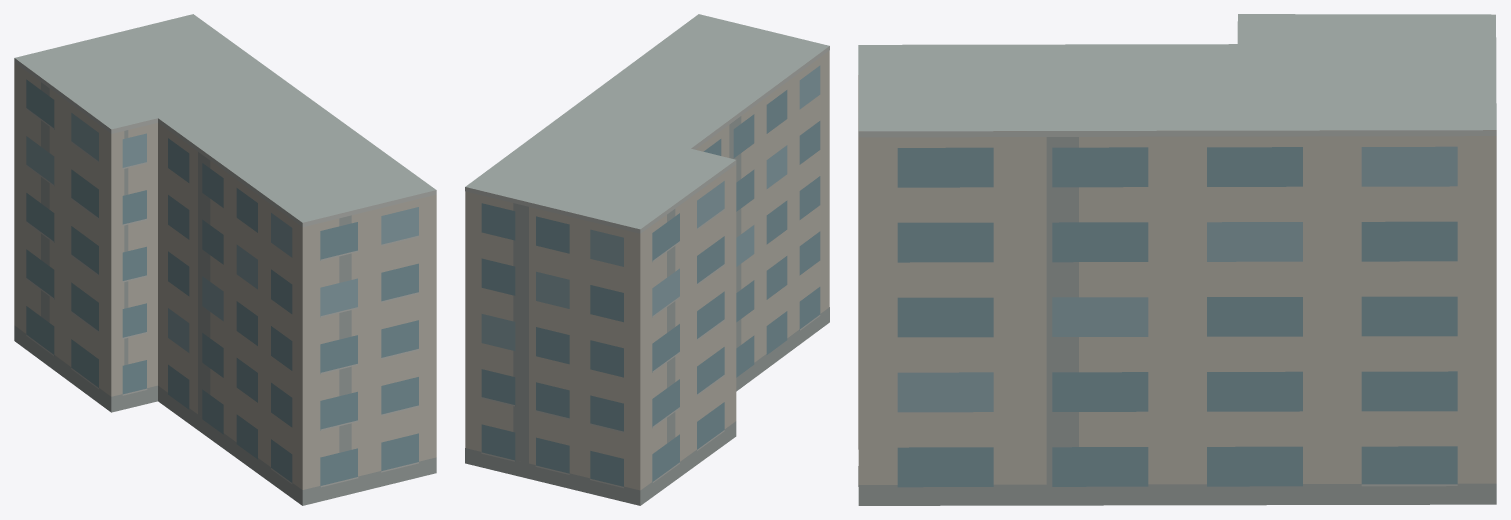
File: survey-upis-32984350.glb
3 views of the same model, side by side, from view 1: azimuth 30°, elevation 25°; view 2: azimuth 150°, elevation 25°; view 3: azimuth 270°, elevation 25° (orthographic). The views are drawn at different scales.
Visible parts, largest first — view 1: survey-upis-32984350.tmp; view 2: survey-upis-32984350.tmp; view 3: survey-upis-32984350.tmp.
Part boxes in pixels (bbox=[...]): survey-upis-32984350.tmp: bbox=[14, 14, 436, 505]; survey-upis-32984350.tmp: bbox=[465, 14, 829, 505]; survey-upis-32984350.tmp: bbox=[858, 14, 1496, 505].
Size of the model in its own units: 10.27 by 15.25 by 23.58.
